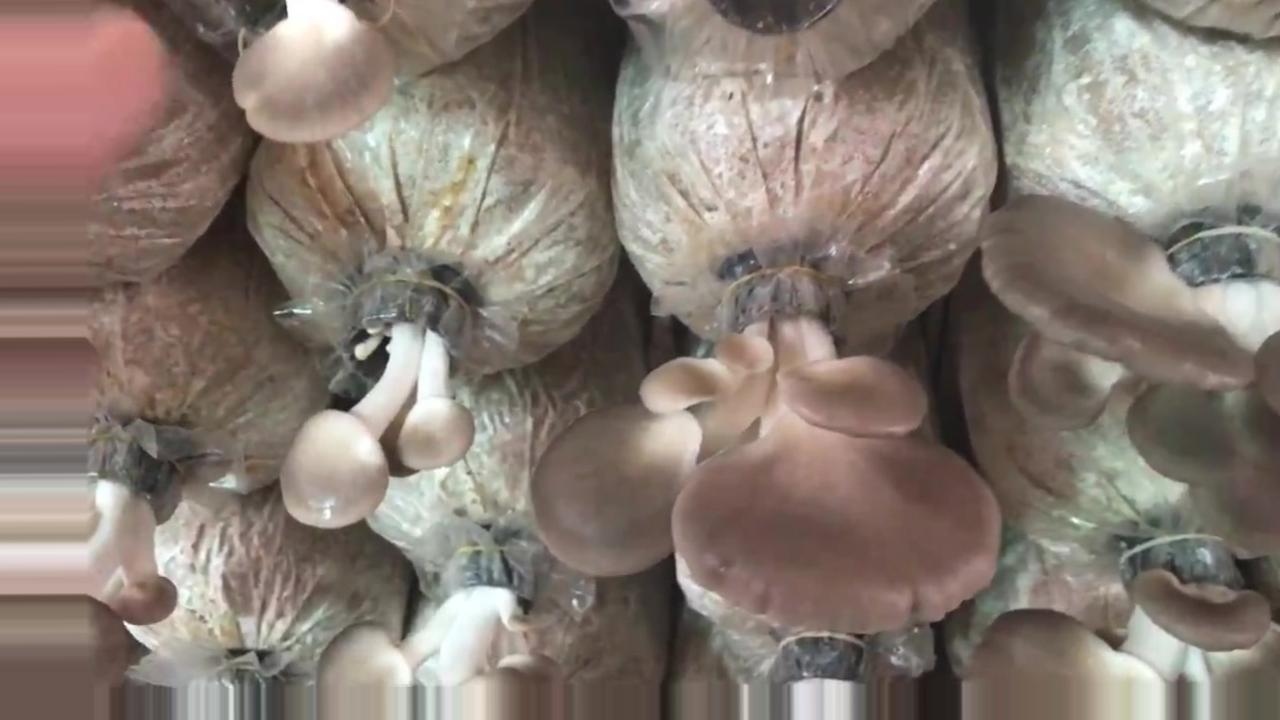nam: (539, 260, 1002, 634), (981, 196, 1280, 547), (966, 531, 1280, 719), (282, 263, 481, 530), (1, 421, 177, 720), (320, 543, 570, 720), (231, 1, 395, 145)
